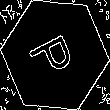P_NE: (27, 28, 83, 82)
